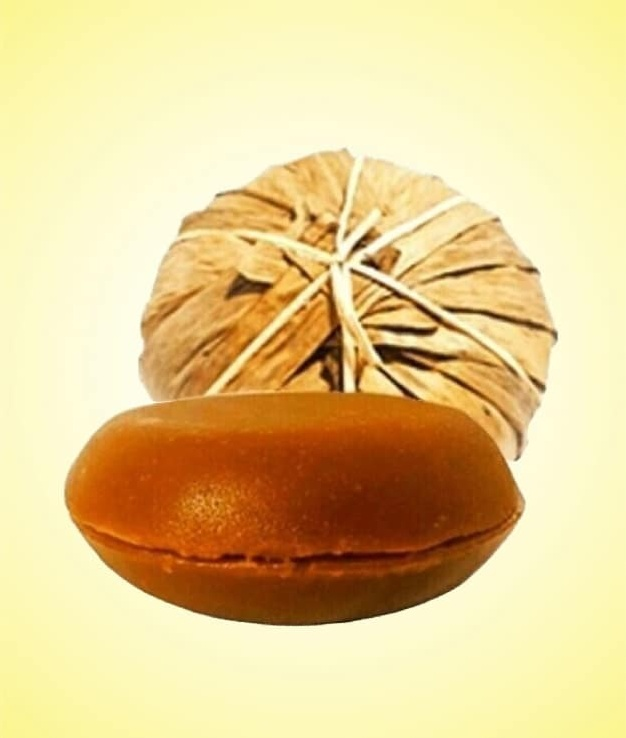hakuru: (60, 387, 526, 628)
